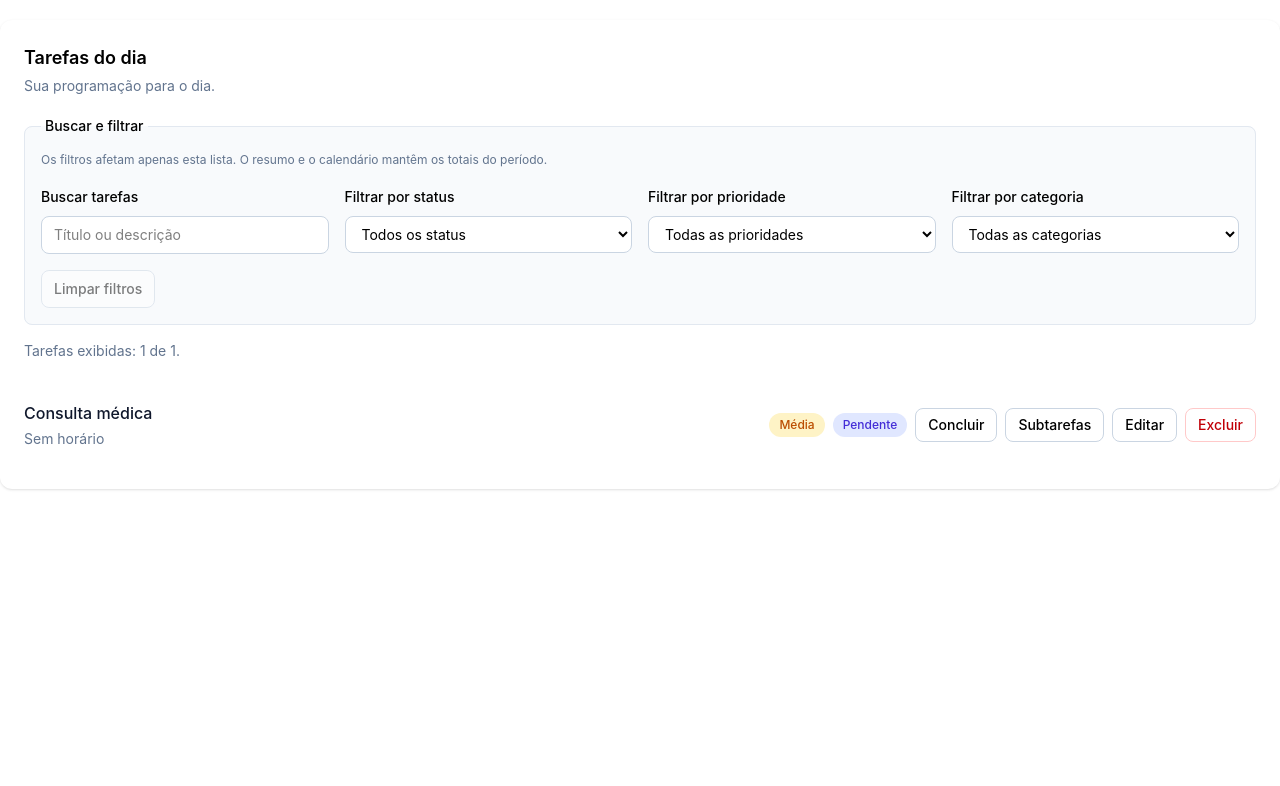
Scenario: TasksList filters › mantém a mensagem de atualização quando a data não muda
The image size is (1280, 786).
Check: the text "Consulta médica" is shown, box [24,401,152,425]
Click the button "Editar" at (1145, 425), box [1112,408,1177,442]
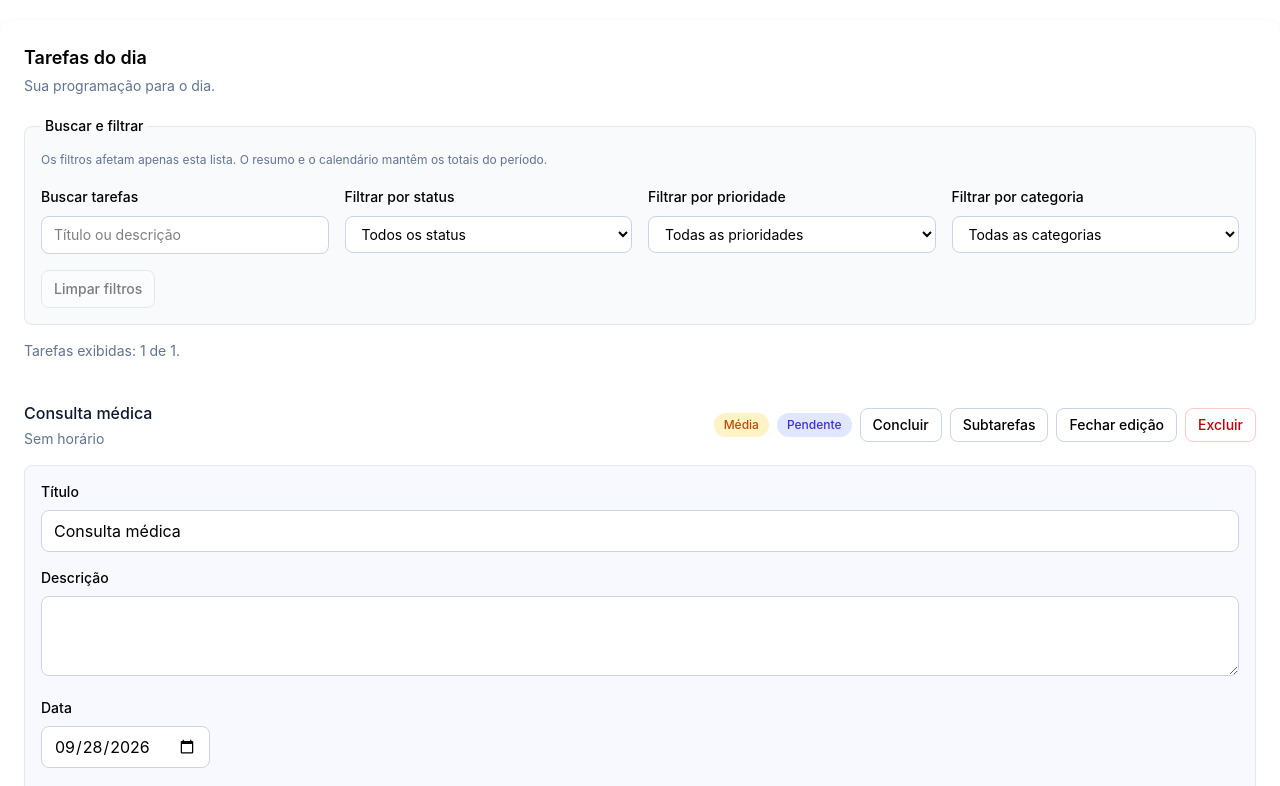
Replace the text in the field labelled "Título" with "Dentista" at (640, 531), box [41,510,1239,552]
(page scrolled)
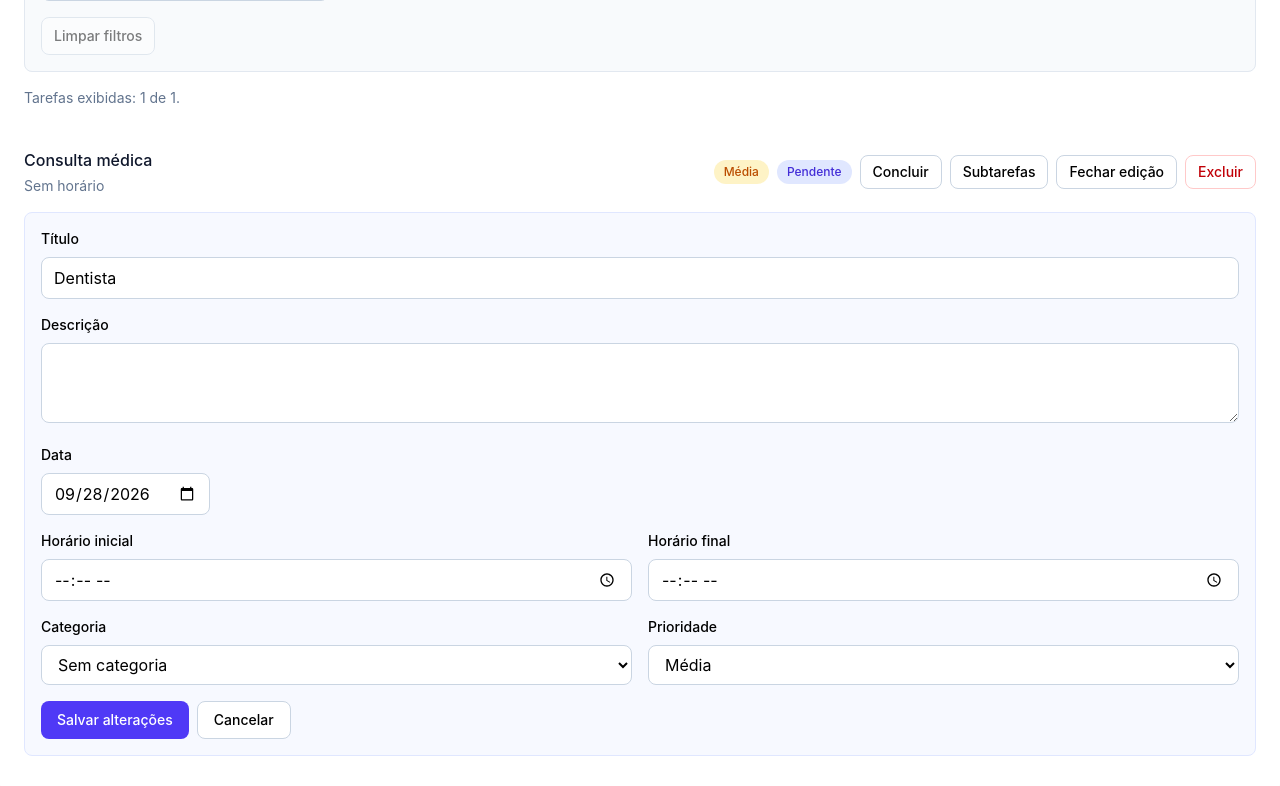
Click the button "Salvar alterações" at (115, 720), box [41,701,189,739]
(page scrolled)
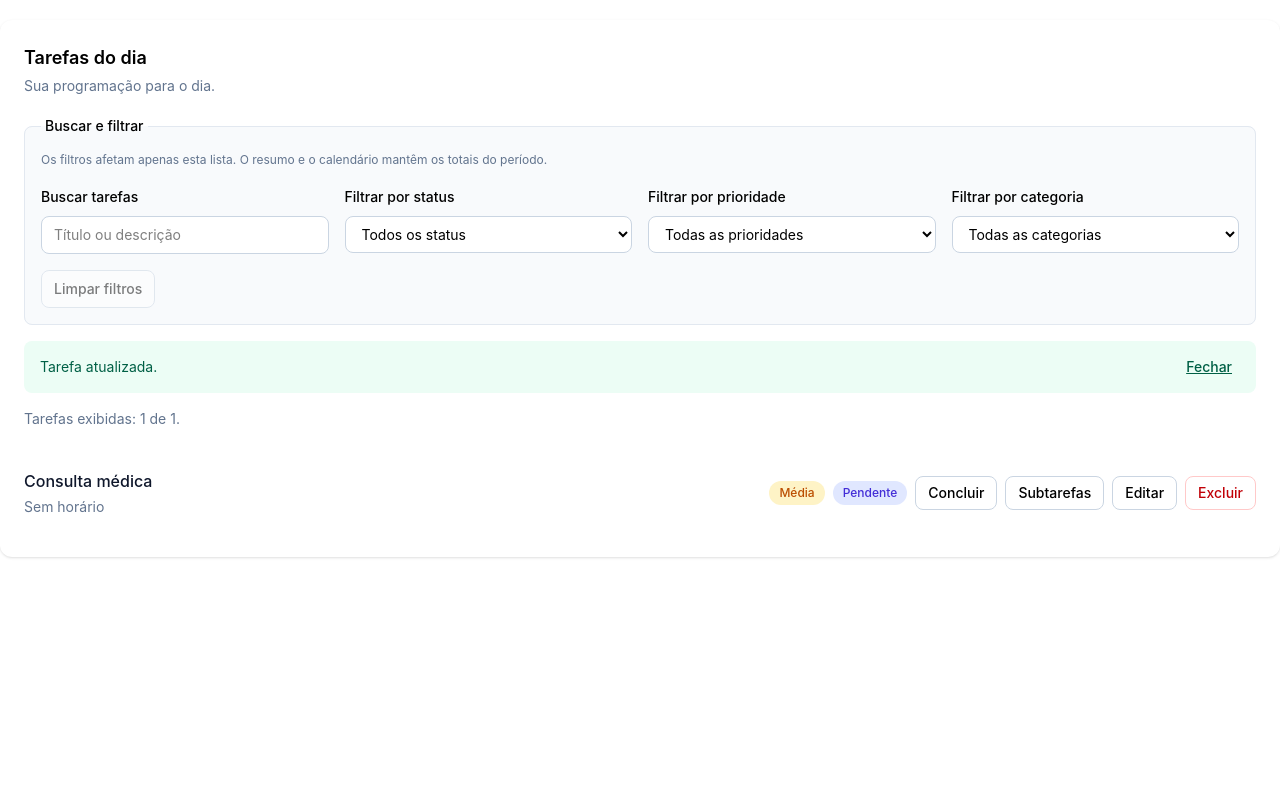
Check: the text "Tarefa atualizada." is shown, box [40,357,157,377]
